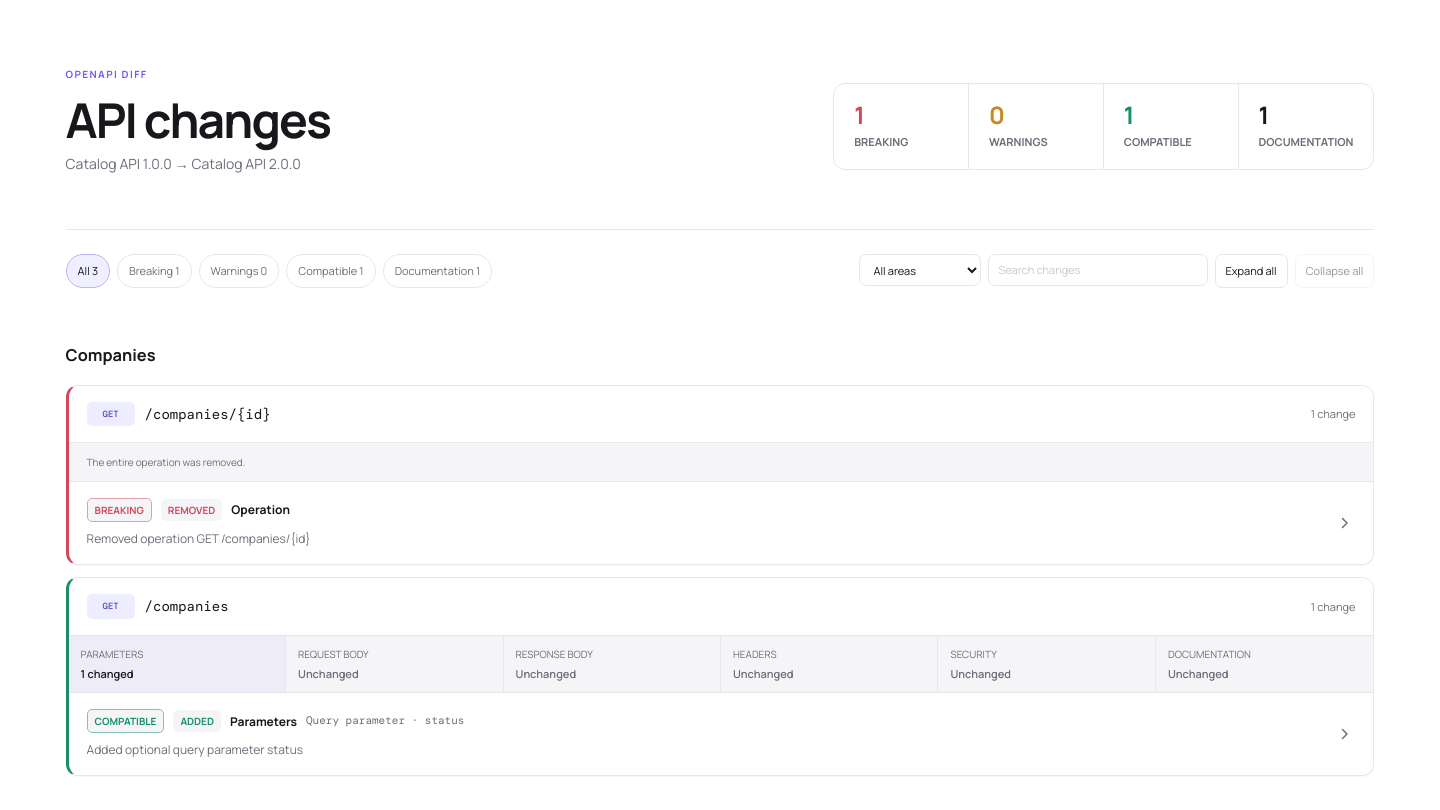
Test: SpecDiff › shows an empty state when the selected filter has no matches
This screenshot has width=1440, height=810.
Step 1. Click the button "Warnings 0" → (239, 271), box [199,254,279,288]
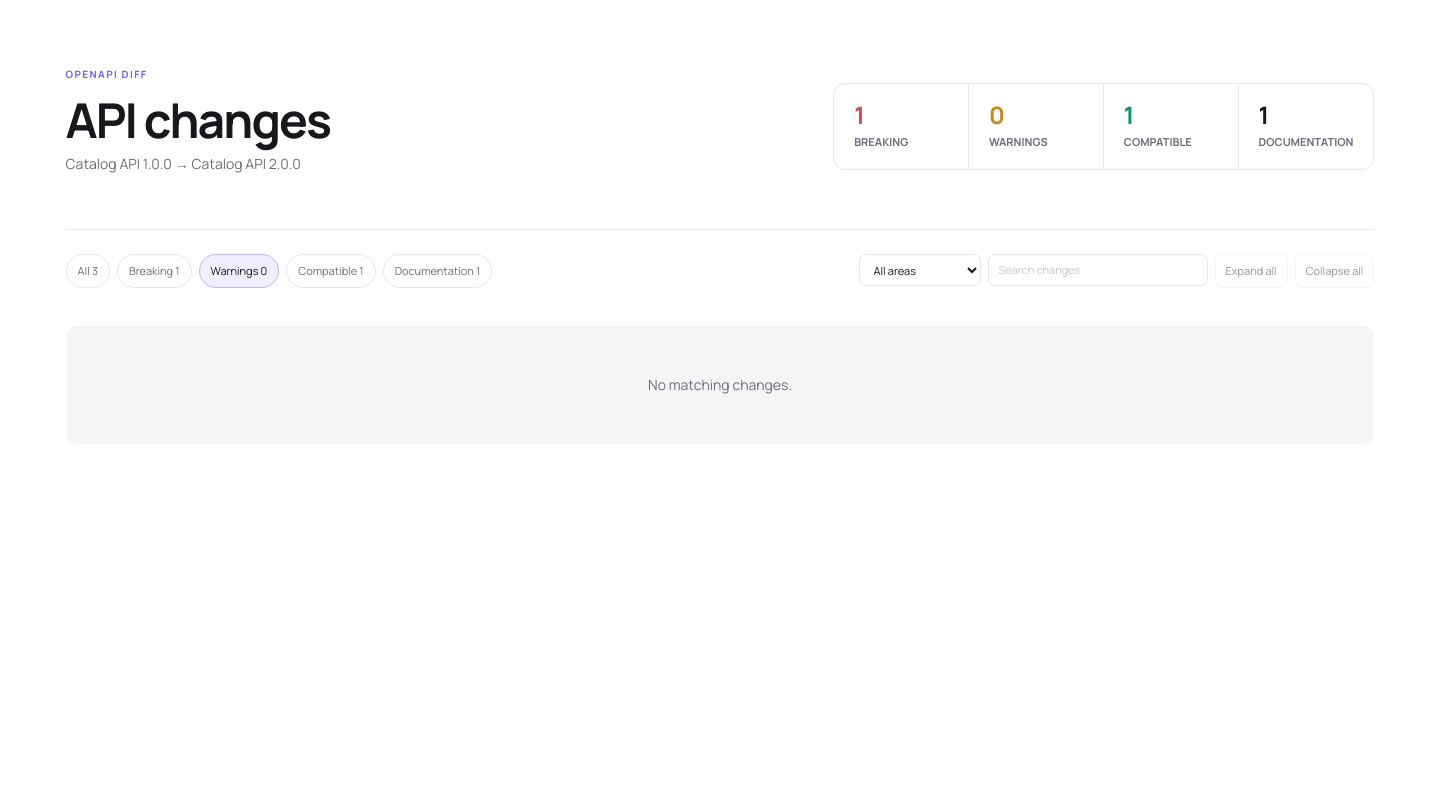
Result: the text "No matching changes." is shown at [66,326,1374,444]
